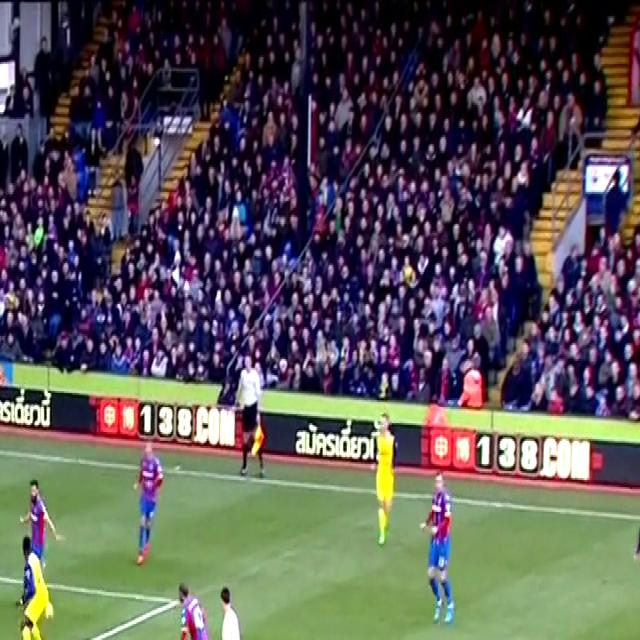ball: (44, 594, 56, 624)
referee: (226, 358, 279, 485), (219, 579, 247, 640)
soccer-player: (414, 468, 475, 633), (115, 432, 174, 569), (10, 530, 40, 640), (164, 583, 221, 640)
